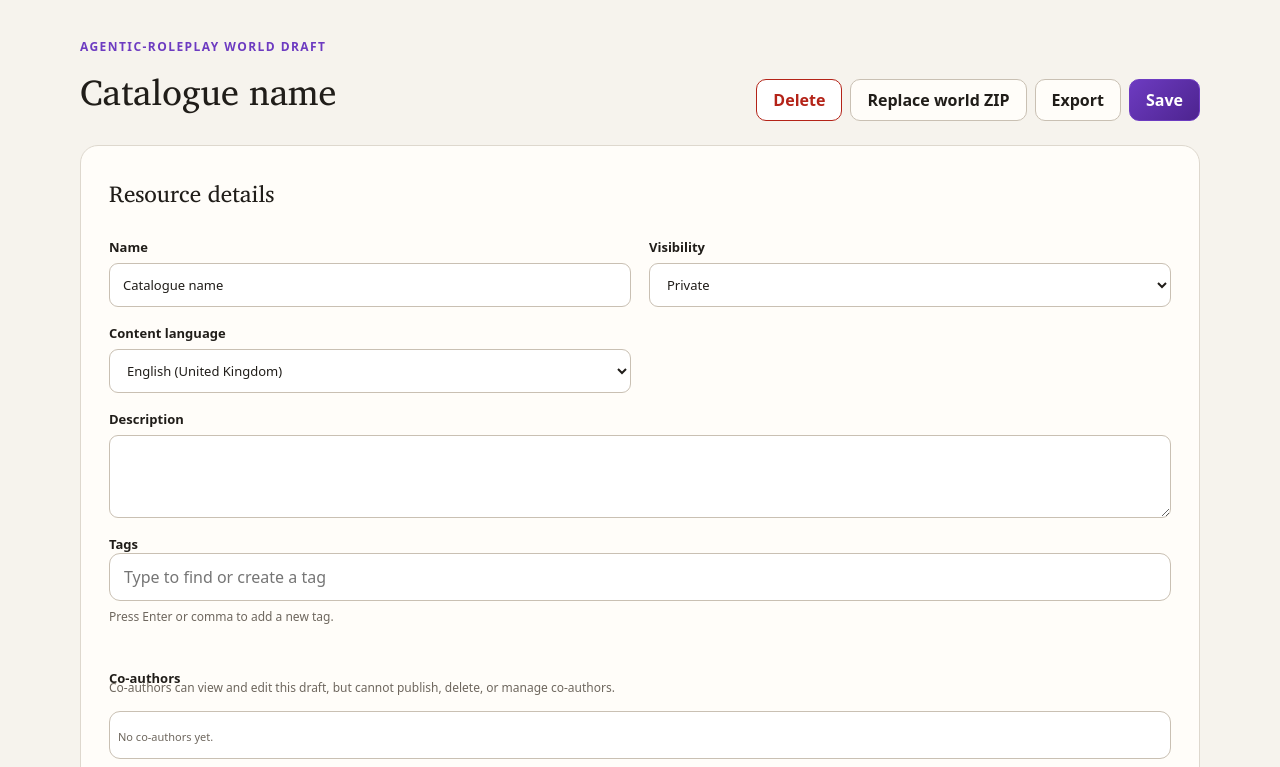
Test: saves edited catalogue metadata
Clear the field labelled "Name": (370, 285) [109,263,631,307]
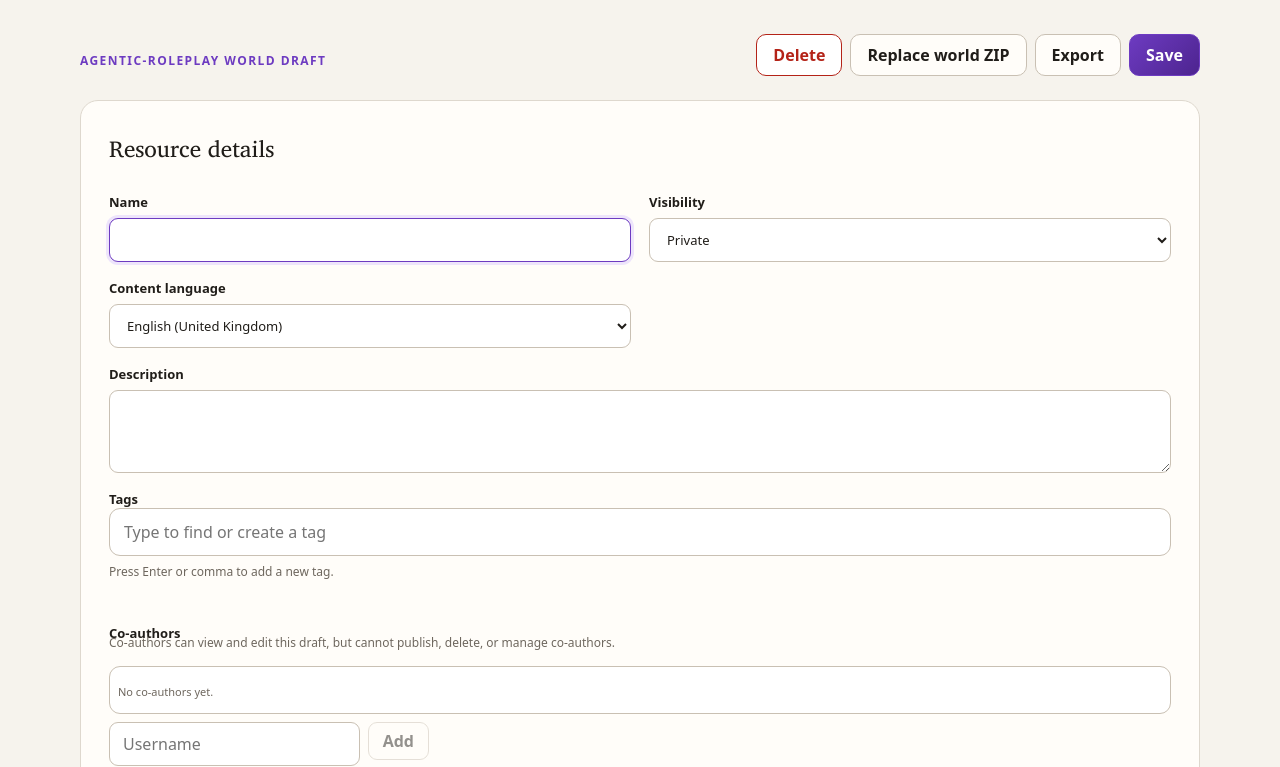
In the field labelled "Name": (370, 240) [109,218,631,262], type "Updated world"
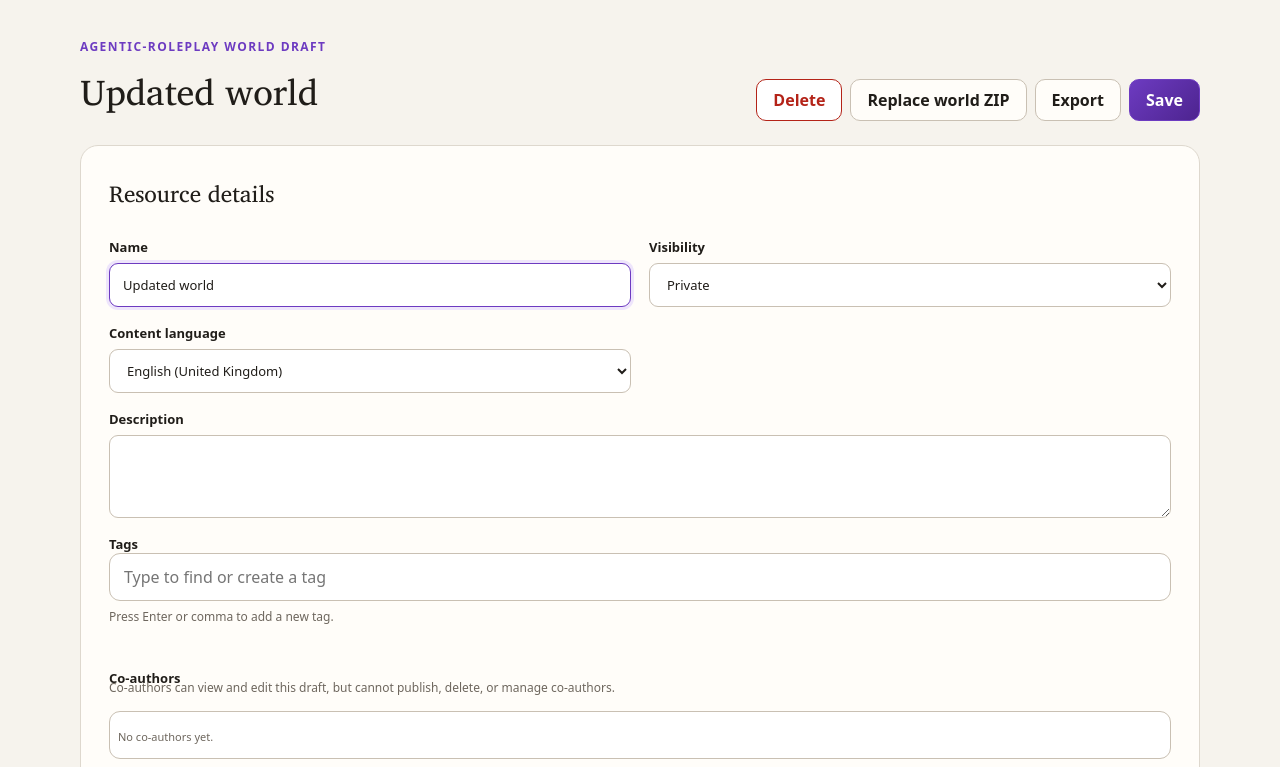
Click the button "Save": click(1164, 100) [1129,79,1200,121]
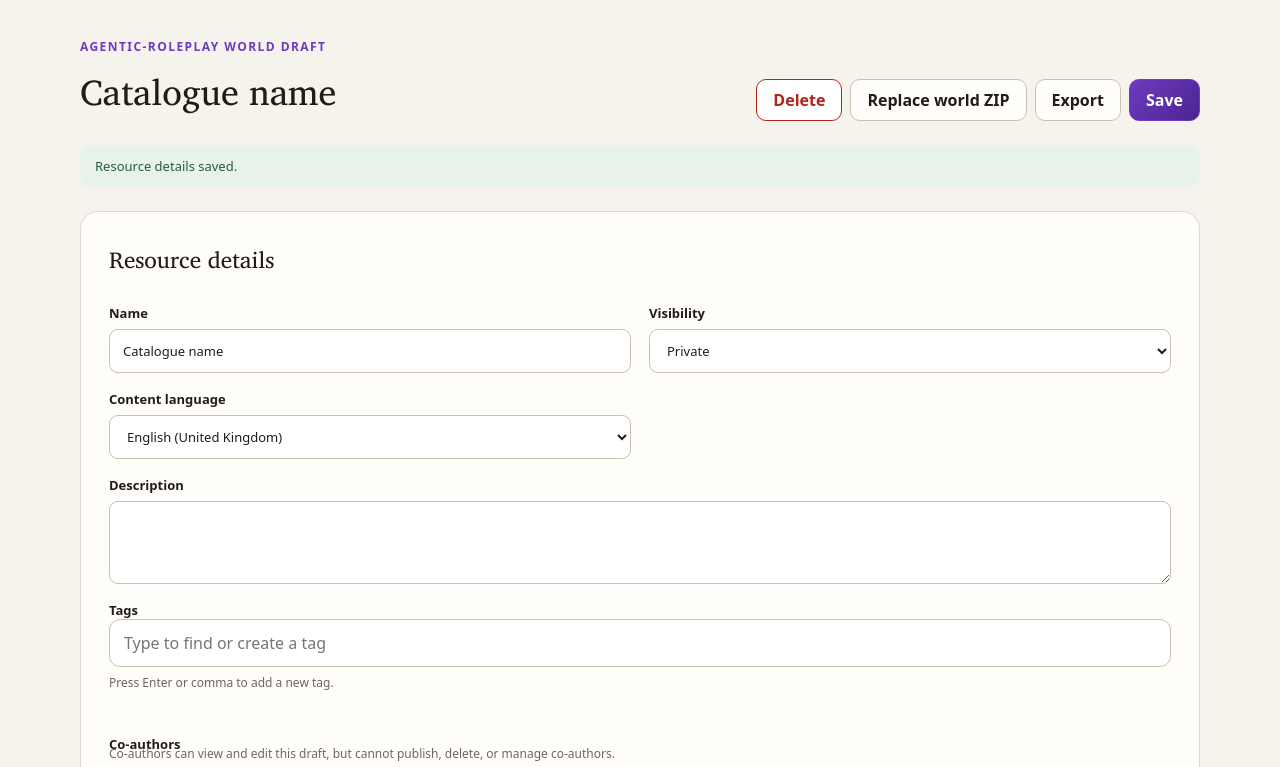
Expected: the message shows "saved", [95,157,237,175]
